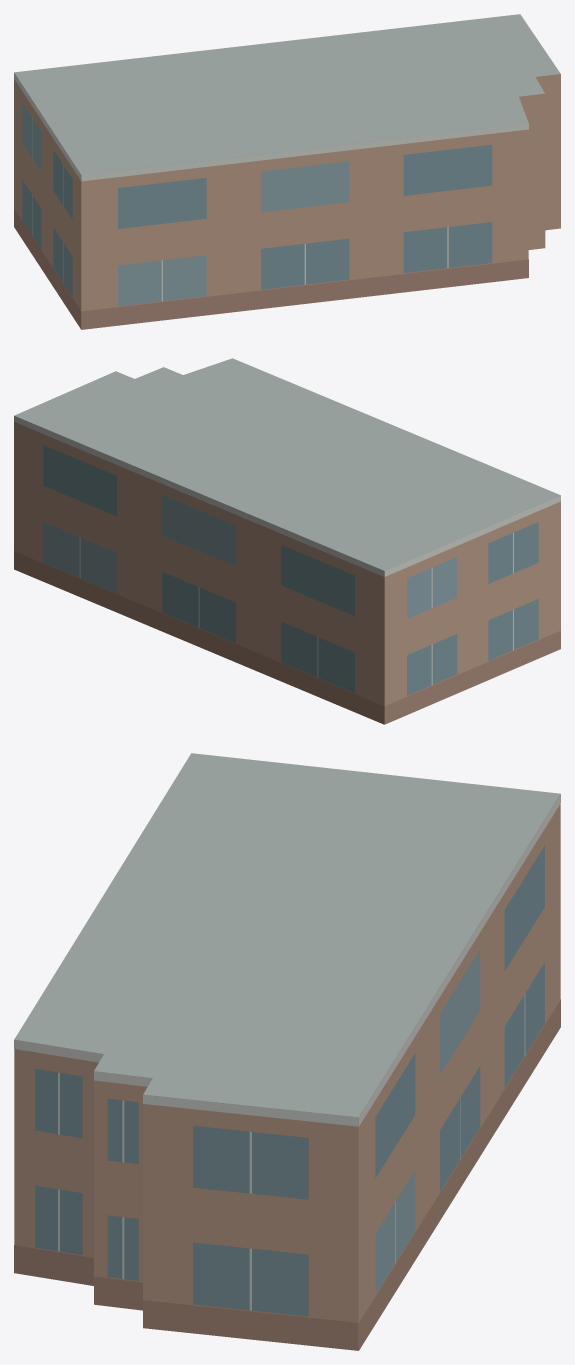
The model's file is survey-upis-32817065.glb.
3 views of the same model, one above another, from view 1: azimuth 30°, elevation 25°; view 2: azimuth 150°, elevation 25°; view 3: azimuth 270°, elevation 25° (orthographic). The views are drawn at different scales.
Visible parts, largest first — view 1: survey-upis-32817065.tmp; view 2: survey-upis-32817065.tmp; view 3: survey-upis-32817065.tmp.
Boxes of the visible parts, x1=… form: survey-upis-32817065.tmp: x1=14, y1=14, x2=560, y2=329; survey-upis-32817065.tmp: x1=14, y1=358, x2=560, y2=724; survey-upis-32817065.tmp: x1=14, y1=753, x2=560, y2=1350.
Size of the model in its own units: 20.42 by 6.1 by 12.95.
